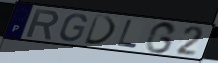2: (175, 26, 205, 58)
D: (82, 14, 118, 46)
G: (144, 21, 178, 55), (58, 13, 89, 43)
L: (115, 19, 139, 50)
R: (24, 7, 61, 41)
